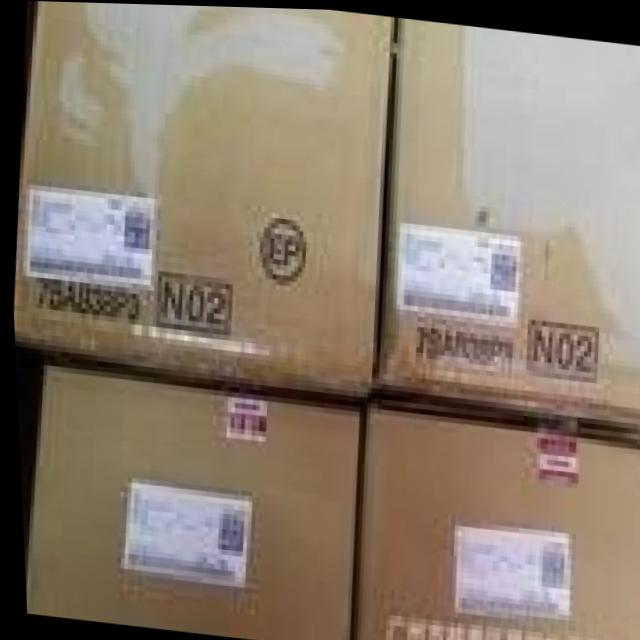box: (11, 1, 394, 391), (377, 18, 640, 430), (20, 365, 356, 640), (352, 402, 640, 640)
